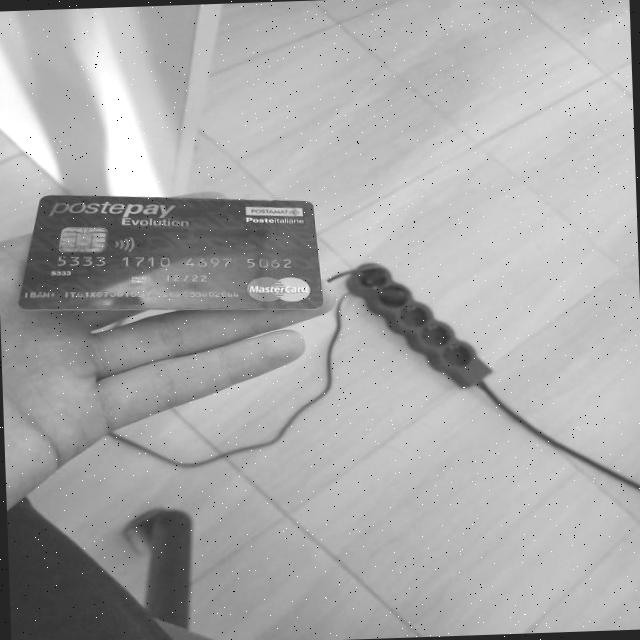card: (10, 182, 342, 336)
